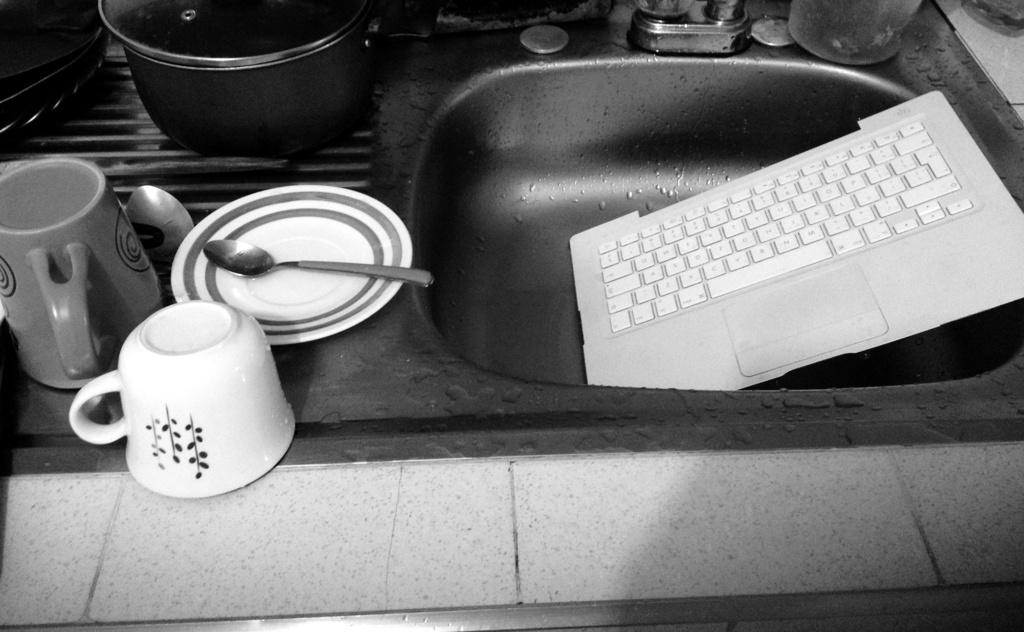Computer-keyboard: (594, 116, 973, 331)
